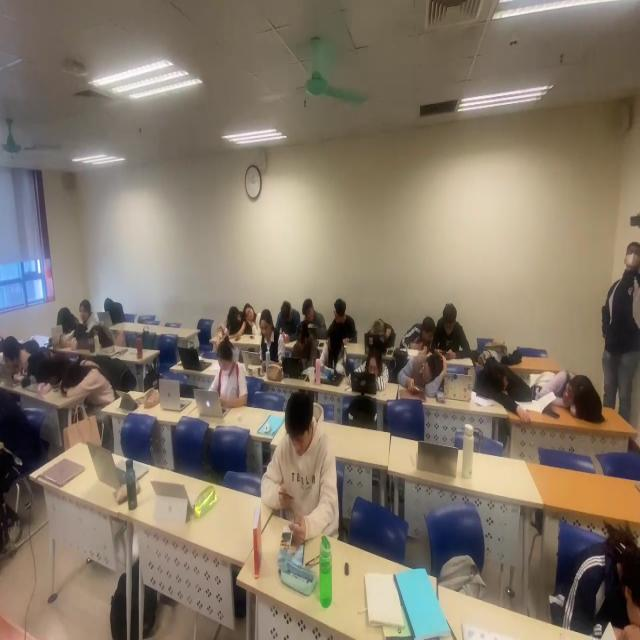raise_head: (75, 298, 97, 328)
sleep: (476, 356, 538, 426), (539, 364, 594, 428), (66, 350, 113, 411), (401, 346, 452, 399), (353, 343, 392, 394), (1, 331, 31, 388), (46, 343, 77, 398), (82, 310, 119, 355), (27, 337, 54, 397), (53, 304, 81, 353), (221, 305, 249, 345), (103, 294, 128, 334), (244, 302, 266, 341)
stand: (596, 235, 640, 417)
using_computer: (206, 346, 256, 422), (283, 313, 321, 384), (244, 313, 280, 374)
using_phone: (277, 415, 323, 519), (408, 350, 438, 396)
